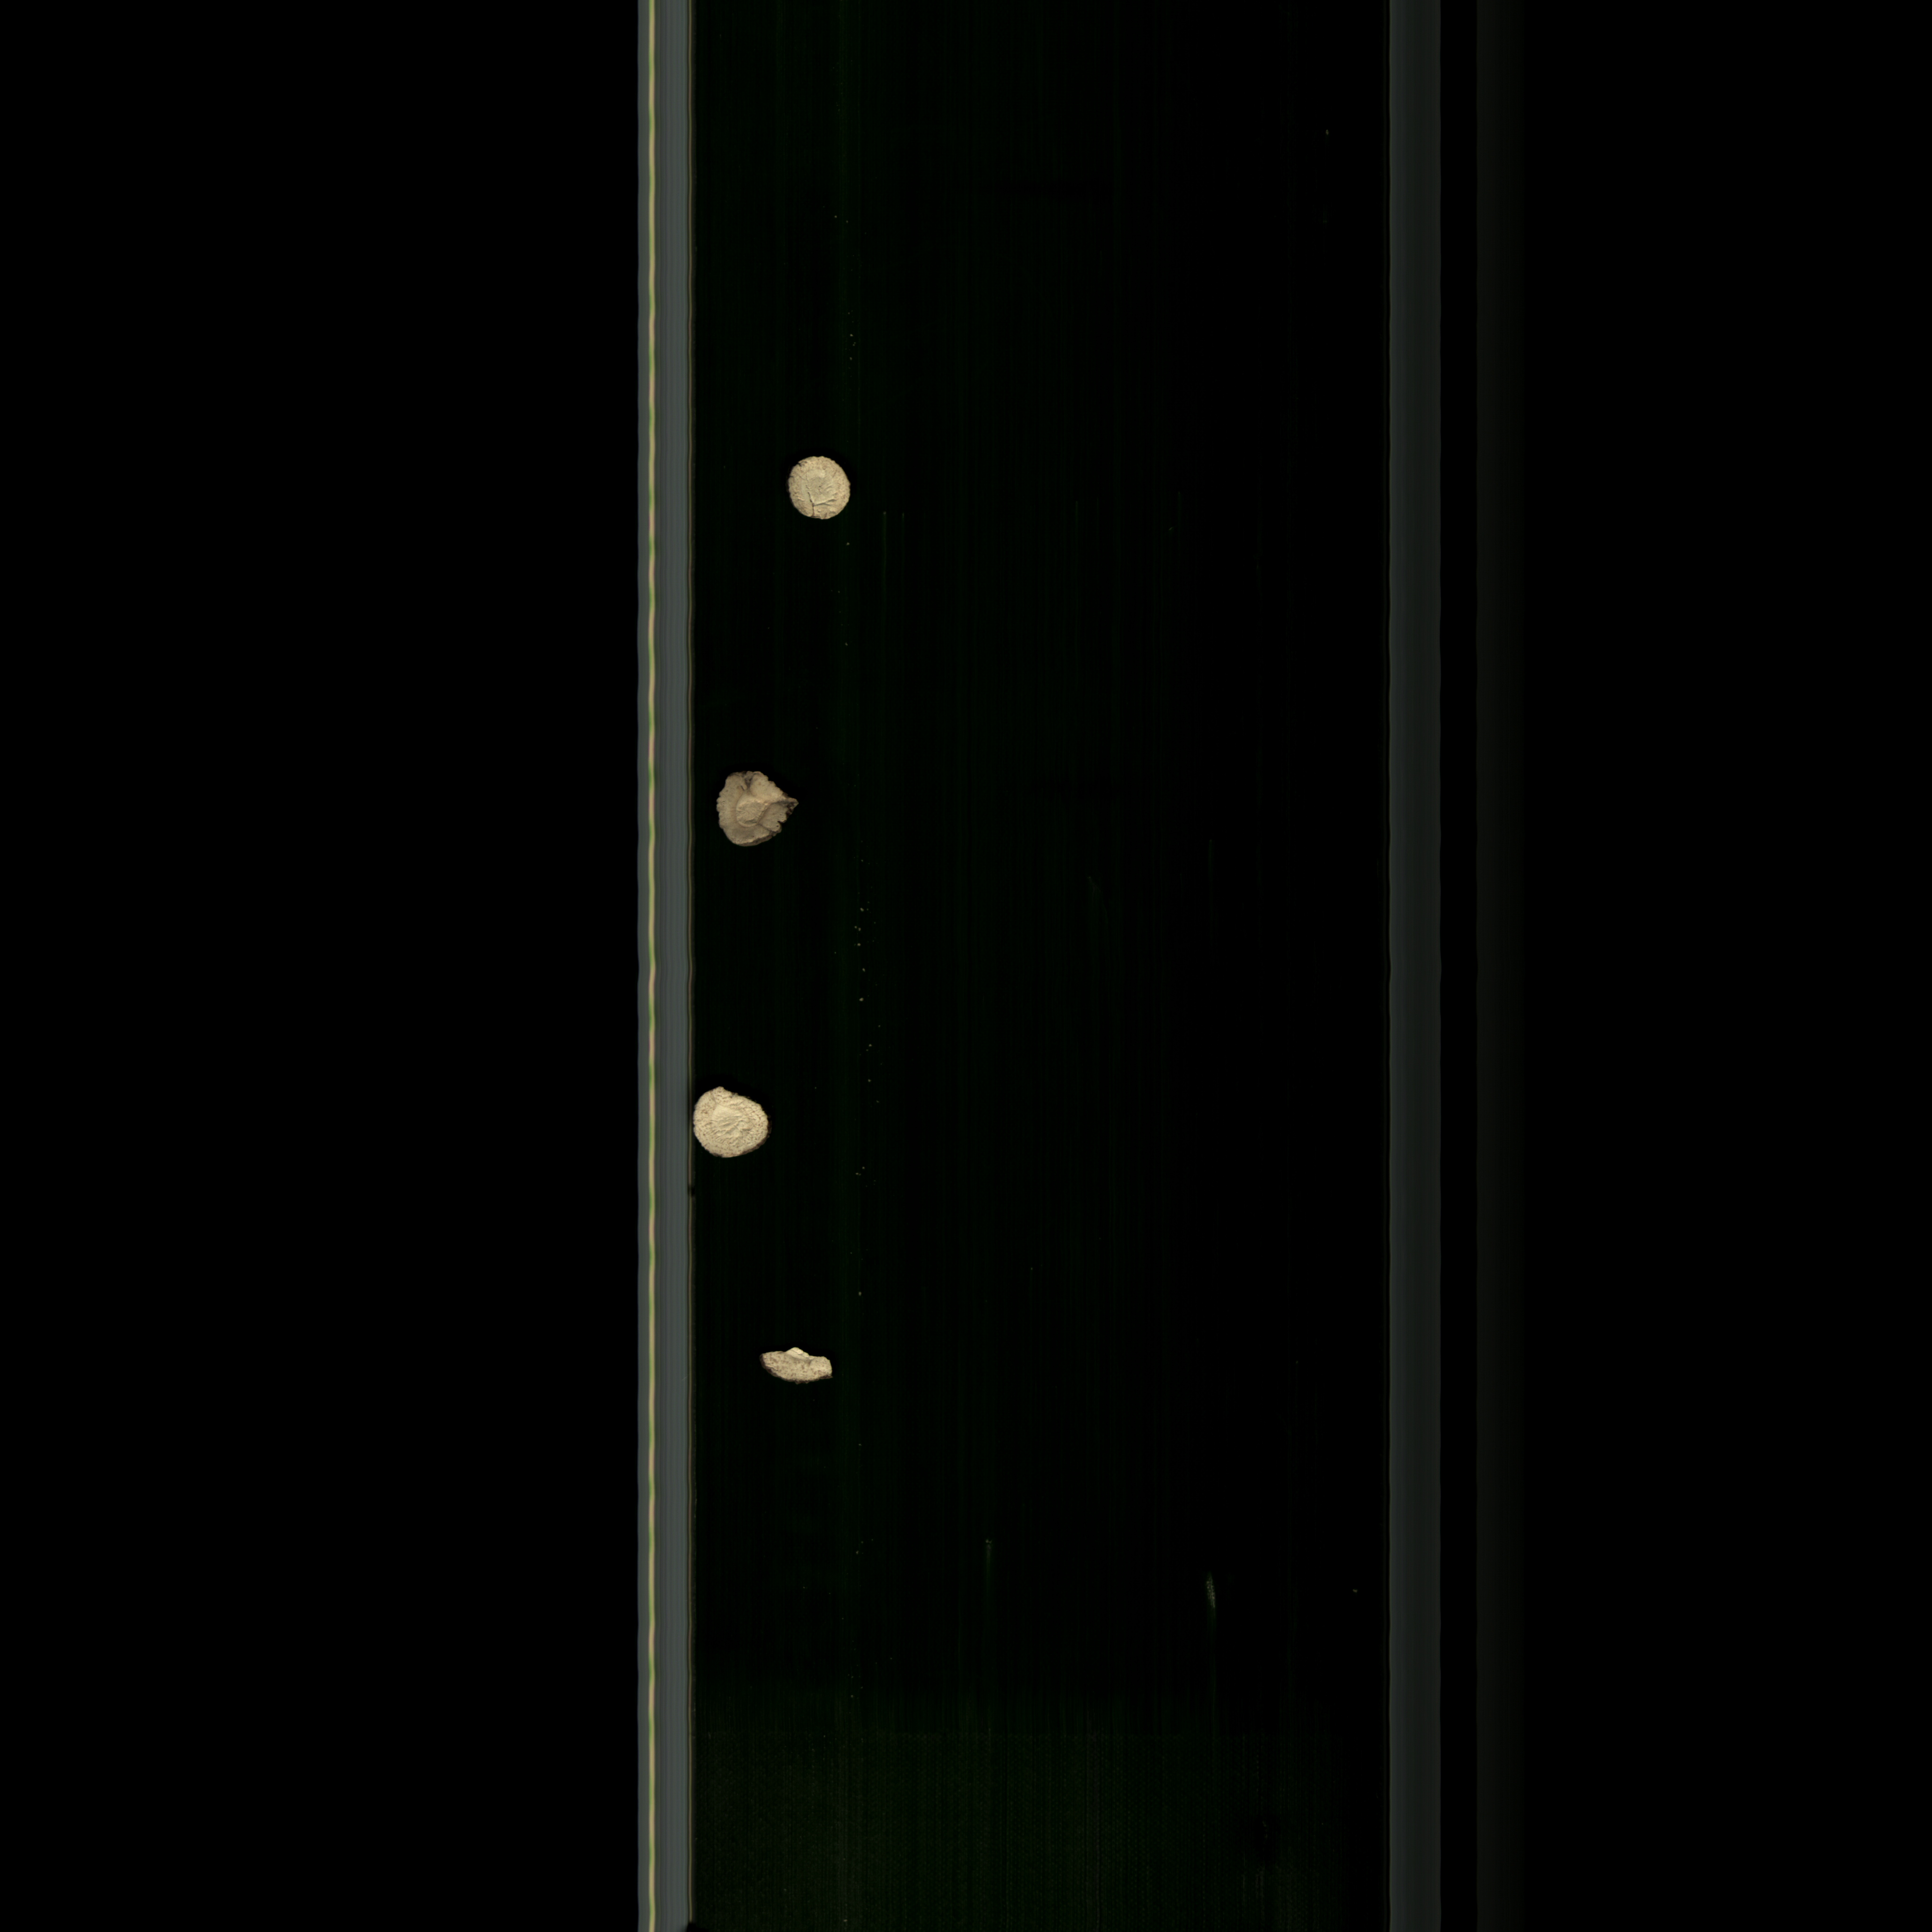debris: (757, 1336, 846, 1403)
moldy: (708, 757, 814, 855)
